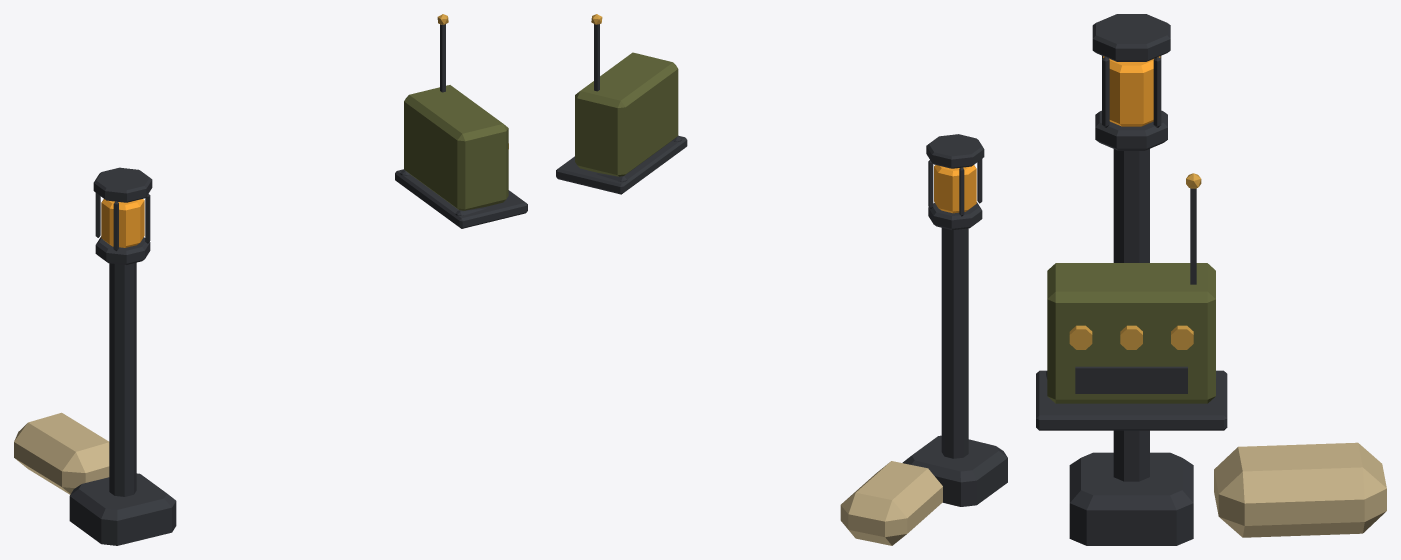
Rendered from SniperDressB2.obj.
3 renders of one model, left to right at view 1: azimuth 30°, elevation 25°; view 2: azimuth 150°, elevation 25°; view 3: azimuth 270°, elevation 25°, orthographic. The views are drawn at different scales.
Visible parts, largest first — view 1: SniperDressB2; view 2: SniperDressB2; view 3: SniperDressB2.
Part boxes in pixels (x1,y1,x2,y2): SniperDressB2: (14, 14, 527, 545); SniperDressB2: (556, 14, 1007, 545); SniperDressB2: (1036, 14, 1386, 545).
Size of the model in its own units: 1.2 by 1.15 by 0.6237.
